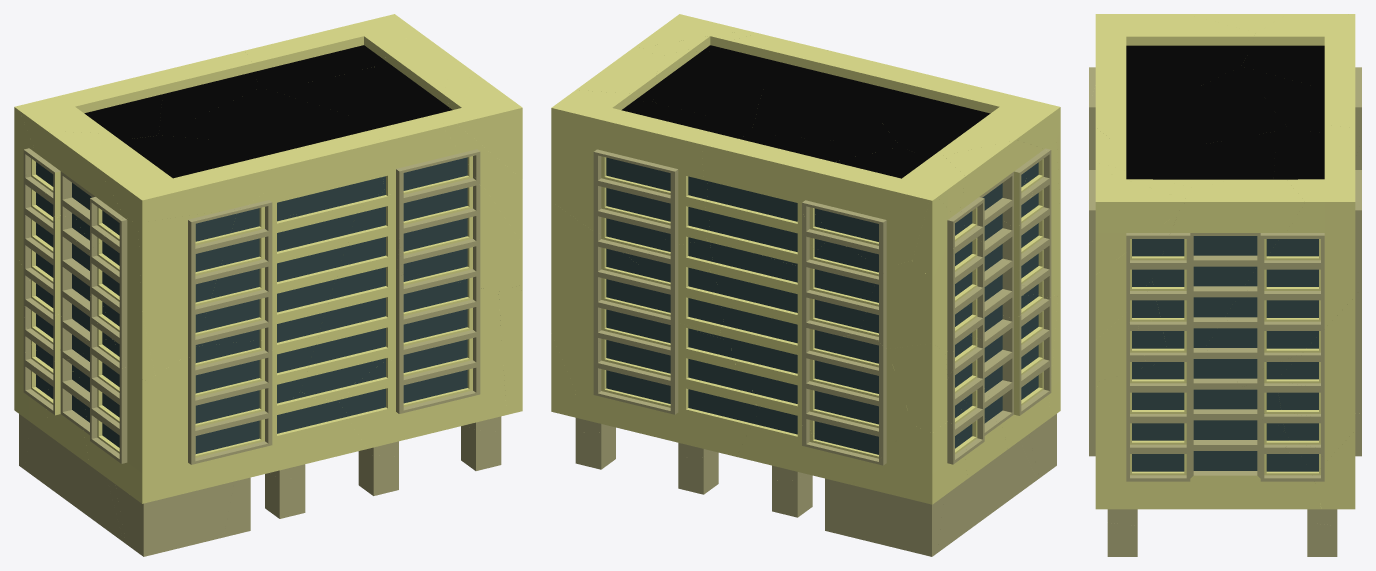
The model's file is Edificio_06.fbx.
3 views of the same model, side by side, from view 1: azimuth 30°, elevation 25°; view 2: azimuth 150°, elevation 25°; view 3: azimuth 270°, elevation 25° (orthographic).
Parts seen in each view (by area): view 1: Cube.029_cell.015, Cube.030_cell.019, Cube.029_cell.006, Cube.018_cell.001, Cube.018_cell.011, Cube.030_cell.006, Cube.030_cell, Cube.018_cell.005, Cube.030_cell.013, Cube.030_cell.002, Cube.030_cell.011, Cube.030_cell.009 (+26 smaller); view 2: Cube.029_cell.008, Cube.029_cell.011, Cube.030_cell.011, Cube.018_cell.009, Cube.030_cell.016, Cube.018_cell.007, Cube.018_cell.001, Cube.029_cell.002, Cube.030_cell.006, Cube.030_cell.010, Cube.030_cell.002, Cube.018_cell.008 (+26 smaller); view 3: Cube.029_cell.013, Cube.029_cell.008, Cube.029_cell, Cube.029_cell.015, Cube.018_cell.001, Cube.030_cell.006, Cube.029_cell.002, Cube.030_cell.011, Cube.029_cell.001, Cube.029_cell.012, Cube.018_cell.009, Cube.029_cell.005 (+10 smaller).
Boxes of the visible parts, x1,y1,x2,y2 form: Cube.029_cell.015: (307, 67, 522, 291); Cube.030_cell.019: (129, 340, 272, 503); Cube.029_cell.006: (396, 271, 506, 441); Cube.018_cell.001: (190, 87, 387, 217); Cube.018_cell.011: (300, 190, 395, 400); Cube.030_cell.006: (97, 132, 268, 224); Cube.030_cell: (138, 206, 255, 374); Cube.018_cell.005: (272, 208, 358, 416); Cube.030_cell.013: (197, 140, 272, 346); Cube.030_cell.002: (70, 339, 139, 494); Cube.030_cell.011: (17, 76, 161, 157); Cube.030_cell.009: (88, 217, 154, 383); Cube.029_cell.008: (551, 90, 717, 265); Cube.029_cell.011: (574, 224, 678, 442); Cube.030_cell.011: (802, 147, 965, 272); Cube.018_cell.009: (701, 133, 853, 268); Cube.030_cell.016: (802, 327, 912, 484); Cube.018_cell.007: (708, 242, 801, 417); Cube.018_cell.001: (751, 50, 932, 142); Cube.029_cell.002: (551, 201, 639, 391); Cube.030_cell.006: (882, 76, 1060, 158); Cube.030_cell.010: (861, 220, 984, 352); Cube.030_cell.002: (984, 294, 1057, 448); Cube.018_cell.008: (678, 323, 760, 456); Cube.029_cell.013: (1095, 359, 1321, 509); Cube.029_cell.008: (1205, 139, 1361, 392); Cube.029_cell: (1138, 179, 1305, 365); Cube.029_cell.015: (1089, 139, 1275, 380); Cube.018_cell.001: (1095, 76, 1287, 148); Cube.030_cell.006: (1092, 14, 1255, 97); Cube.029_cell.002: (1277, 289, 1361, 475); Cube.030_cell.011: (1241, 14, 1361, 117); Cube.029_cell.001: (1089, 162, 1193, 339); Cube.029_cell.012: (1095, 169, 1184, 274); Cube.018_cell.009: (1256, 76, 1355, 132); Cube.029_cell.005: (1309, 430, 1355, 509).
Bounding box in the file's own units: 4595 × 4010 × 2737.
